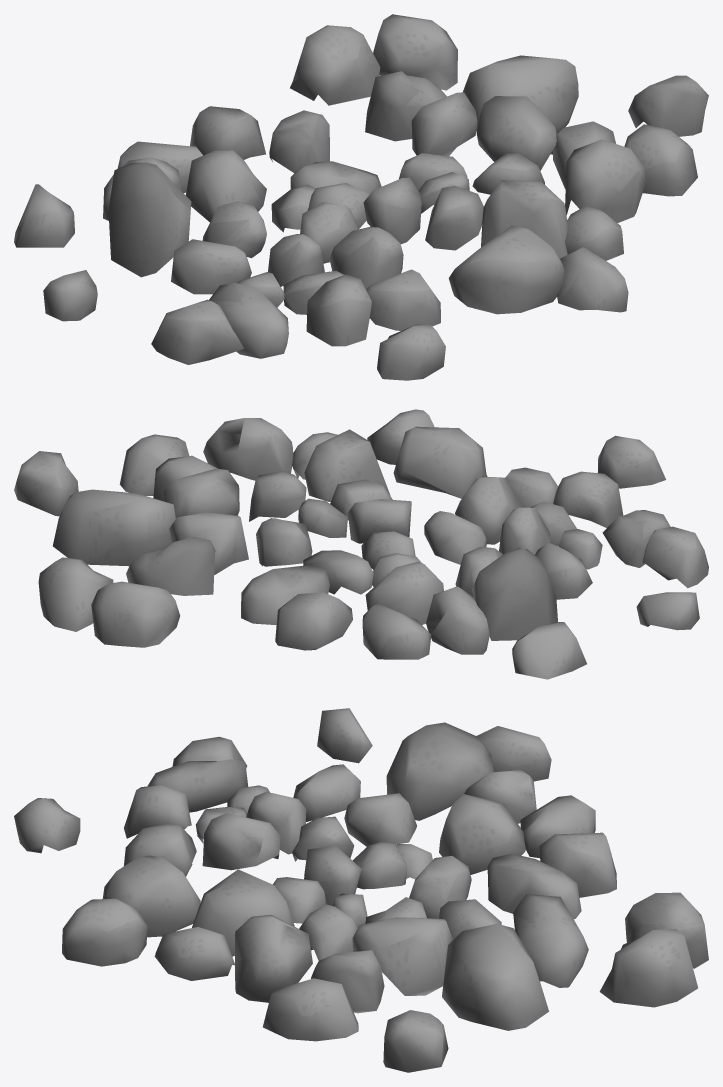
Rendered from PebNest00.fbx.
3 renders of one model, top to bottom at view 1: azimuth 30°, elevation 25°; view 2: azimuth 150°, elevation 25°; view 3: azimuth 270°, elevation 25°, orthographic. The views are drawn at different scales.
Parts seen in each view (by area): view 1: PebNest00; view 2: PebNest00; view 3: PebNest00.
Part boxes in pixels (x1,y1,x2,y2): PebNest00: (14, 14, 708, 380); PebNest00: (14, 409, 708, 679); PebNest00: (14, 708, 708, 1072).
Size of the model in its own units: 0.6176 by 0.0801 by 0.5297.
